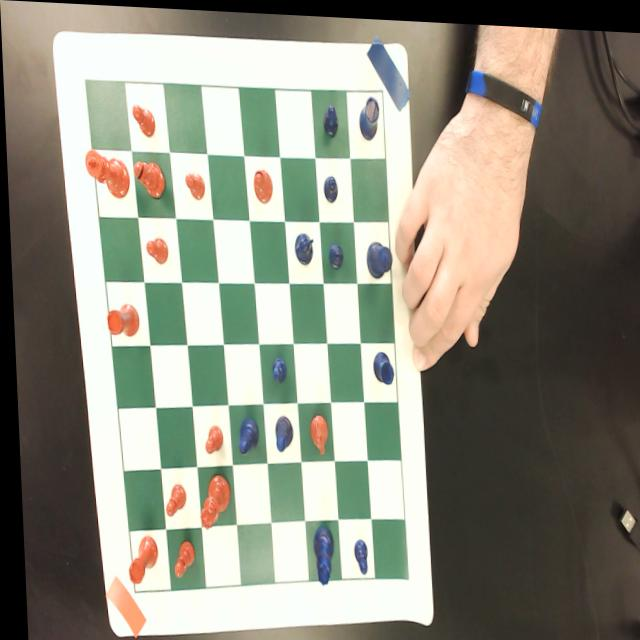B: (233, 414, 256, 453), (271, 412, 290, 451)
K: (364, 236, 391, 276)
N: (292, 230, 313, 263)
P: (321, 101, 337, 136), (349, 536, 364, 573), (322, 172, 338, 201), (326, 238, 342, 267), (268, 354, 284, 381)
Q: (307, 523, 330, 584)
R: (358, 92, 379, 138), (370, 348, 391, 382)
b: (132, 156, 163, 199), (251, 167, 272, 201)
cb: (85, 80, 403, 591)
k: (83, 149, 129, 198)
n: (305, 410, 325, 451)
p: (168, 538, 191, 578), (131, 102, 155, 137), (160, 481, 183, 517), (183, 168, 204, 199), (143, 235, 166, 263), (200, 423, 220, 454)
q: (195, 472, 227, 527)
r: (120, 534, 154, 585), (101, 300, 139, 338)
